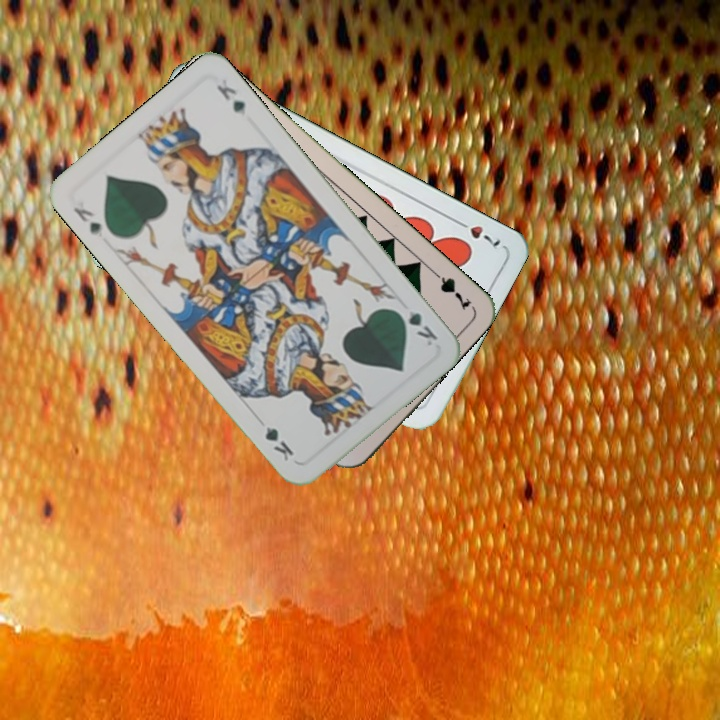G7: (426, 264, 474, 313)
GK: (391, 305, 441, 349), (69, 203, 106, 241)
H7: (450, 215, 503, 250)
